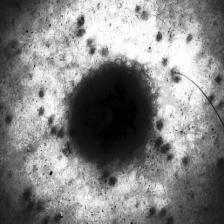Benign Marking or Mole: (73, 74, 144, 154)
